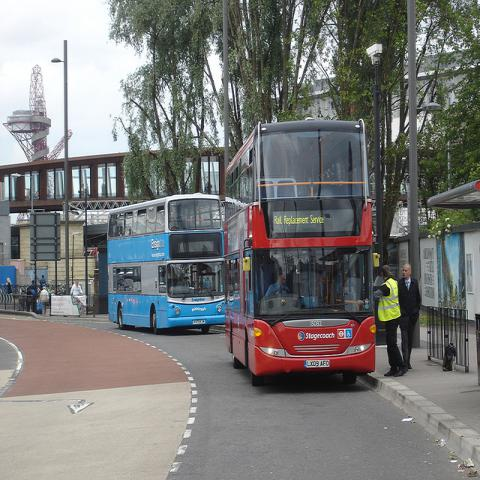bus: (225, 122, 380, 395), (110, 194, 225, 331)
